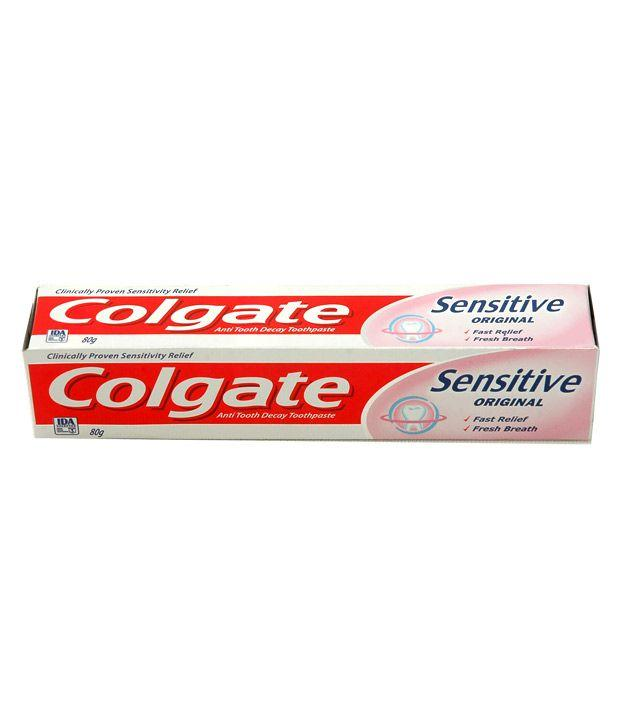toothpaste: (14, 271, 602, 452)
